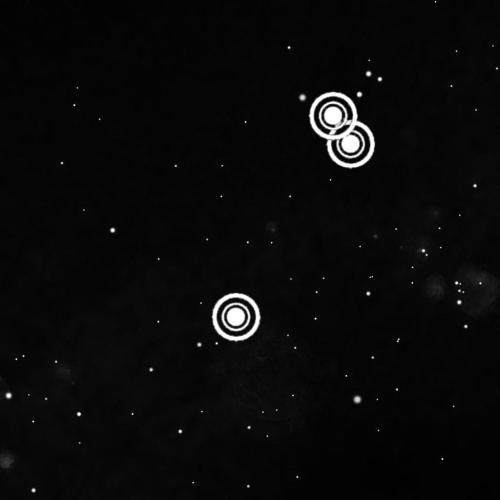canis_minor: (204, 87, 383, 348)
